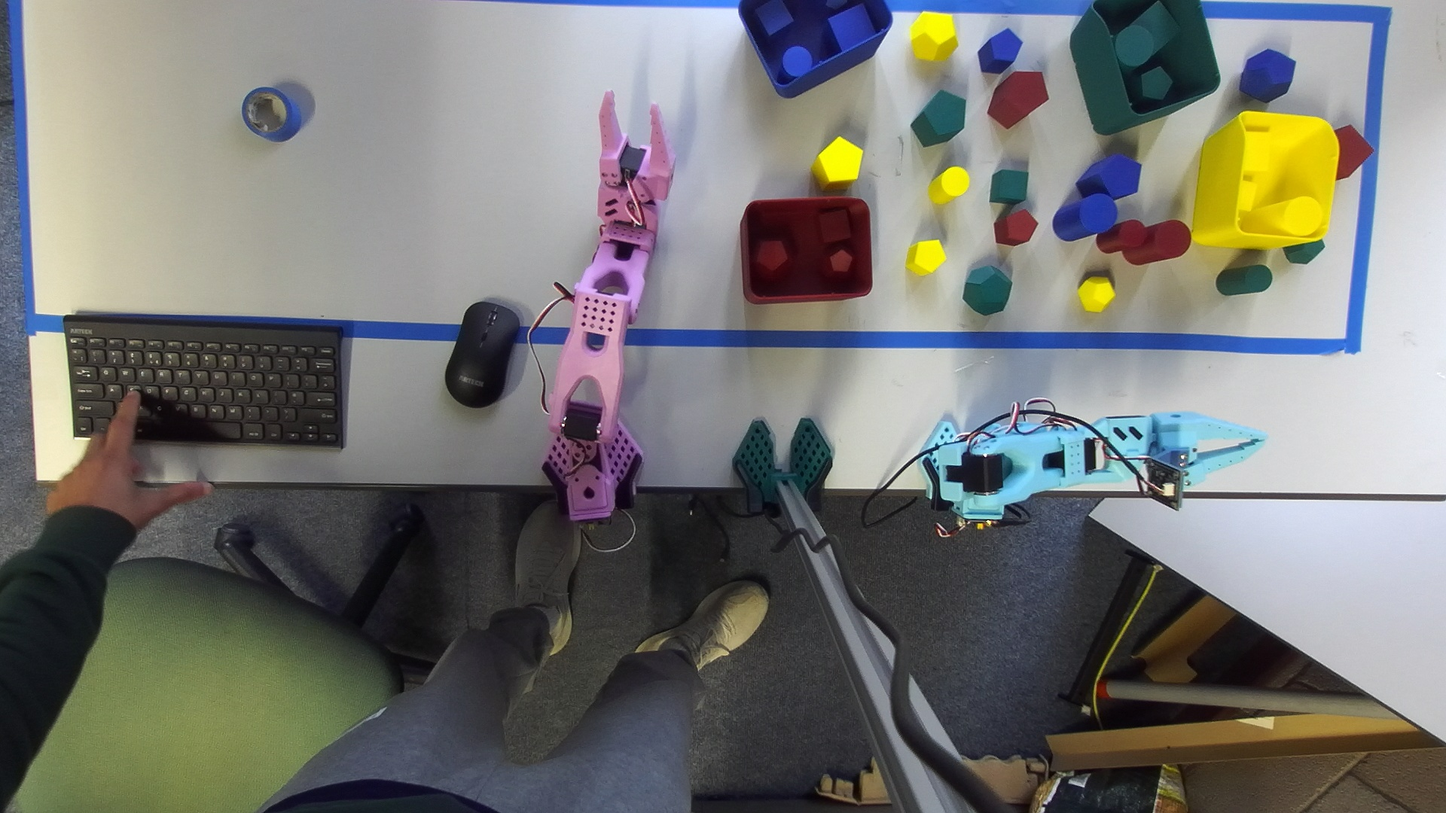bin: (1191, 111, 1339, 248), (1070, 0, 1219, 134), (738, 0, 892, 97), (740, 196, 871, 303)
cube: (1130, 4, 1179, 52), (828, 5, 875, 51), (1335, 125, 1374, 178), (1243, 121, 1271, 181), (755, 0, 793, 35), (990, 169, 1027, 203), (819, 209, 850, 244), (1238, 173, 1253, 212)
cylinder: (1239, 196, 1322, 236), (1052, 192, 1117, 240), (1127, 221, 1191, 264), (1216, 264, 1272, 296), (1114, 23, 1154, 67), (1096, 220, 1147, 253), (928, 166, 969, 204), (782, 45, 813, 78)
dodecahedron: (1239, 49, 1295, 102), (962, 264, 1011, 315), (910, 12, 957, 60), (1078, 276, 1115, 312), (755, 239, 789, 276), (1140, 66, 1173, 99), (828, 249, 853, 276)
gripper: (597, 90, 675, 251), (1148, 412, 1267, 483)
hexagonal: (987, 72, 1048, 128), (911, 90, 966, 146), (1076, 154, 1141, 199), (811, 137, 862, 185), (978, 28, 1022, 73), (994, 209, 1037, 245), (905, 239, 945, 274)
